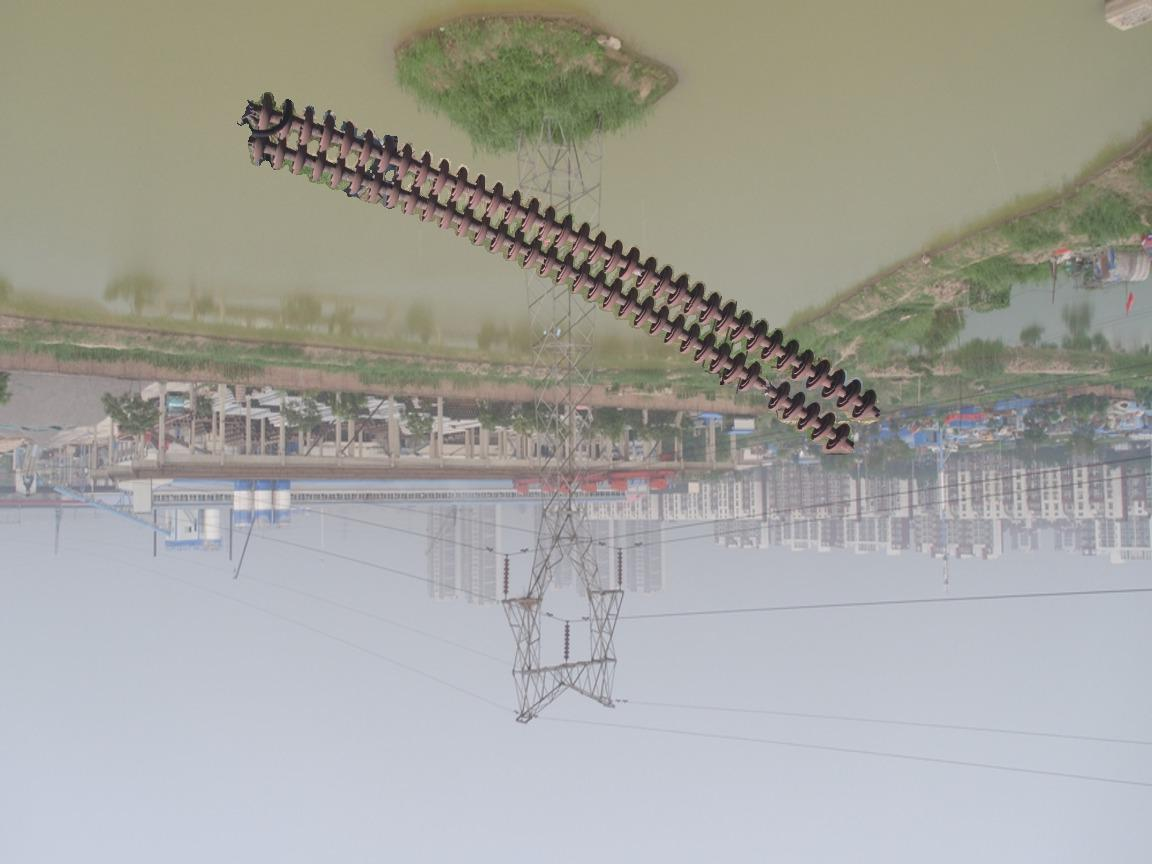insulator: (241, 91, 887, 461), (558, 620, 574, 663), (499, 553, 515, 595), (612, 549, 626, 587)
insulator_stringdrop: (736, 359, 792, 414)
